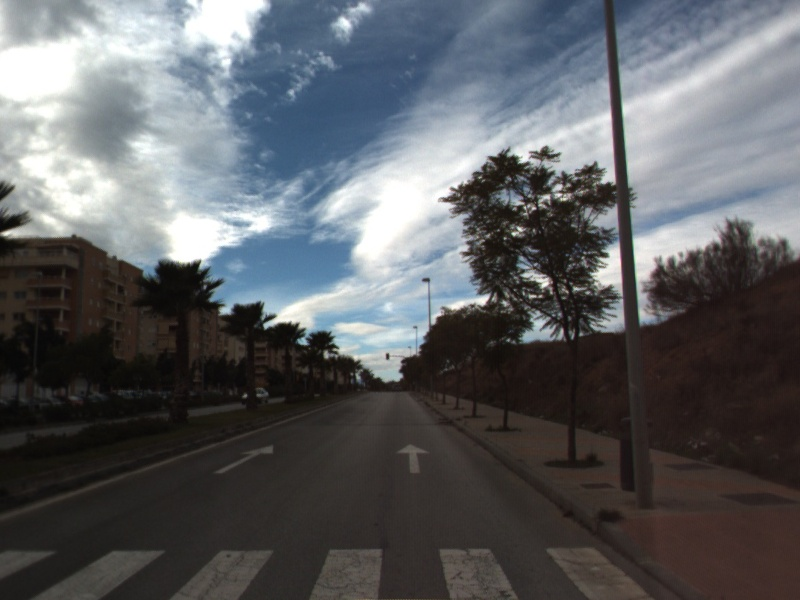STRAIGHT: (212, 442, 275, 475), (394, 441, 432, 475)
